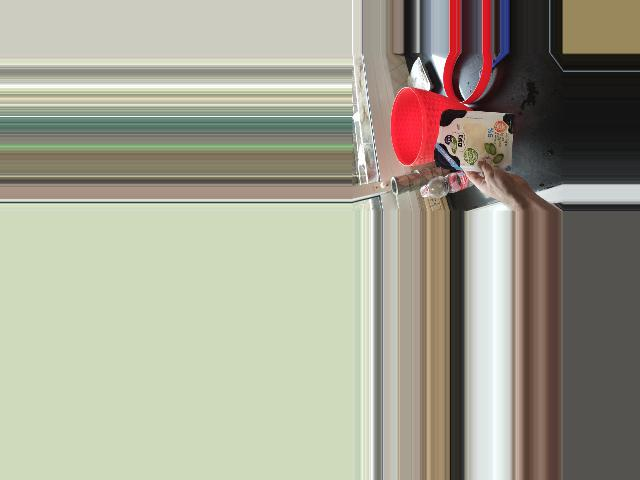cheese: (433, 109, 507, 186)
